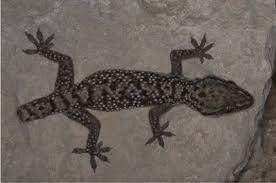lizard: (18, 28, 255, 171)
